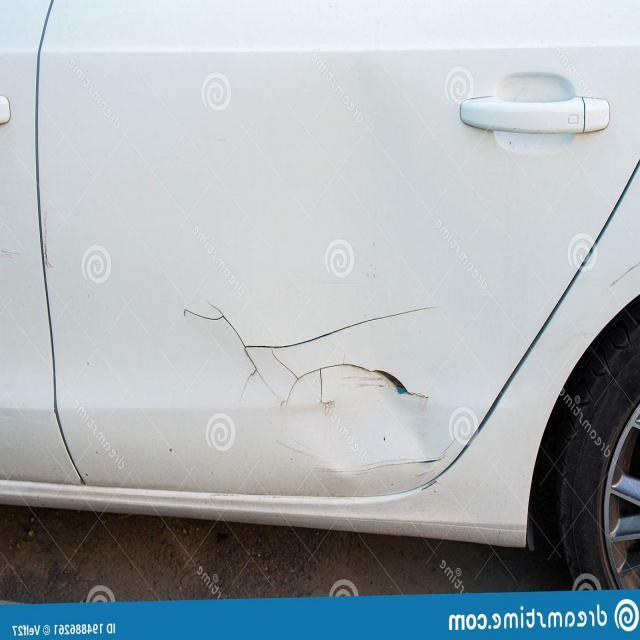dent: (168, 278, 470, 512)
